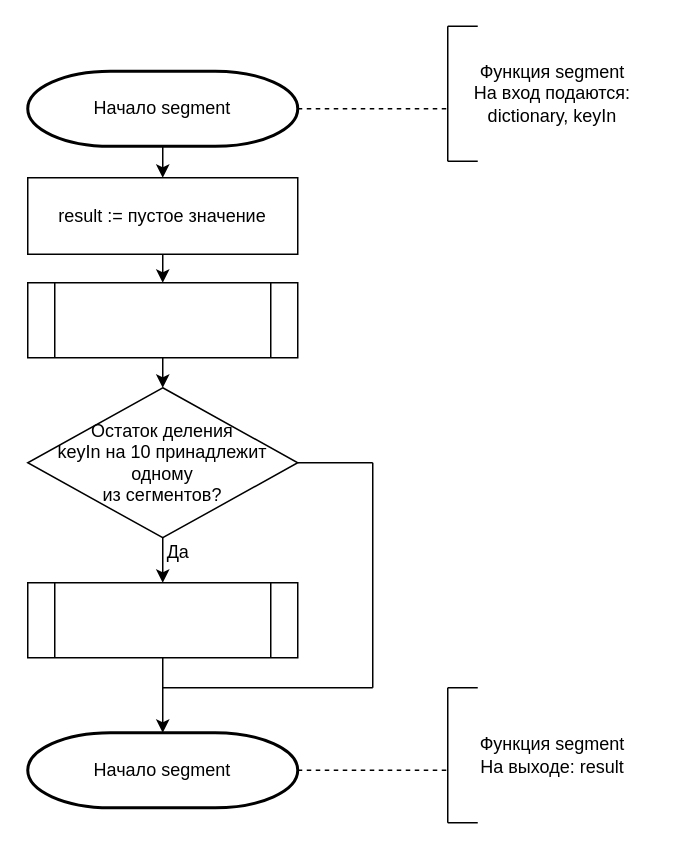
Some shapes in this 683 by 851 pixel diagram are drawn without their labels. Each missing label, with the box of its shape:
Произвести двоичный поиск в сегменте: (26, 581, 298, 658)
Разбить словарь на сегменты по остатку деления key на 10: (26, 281, 298, 358)
